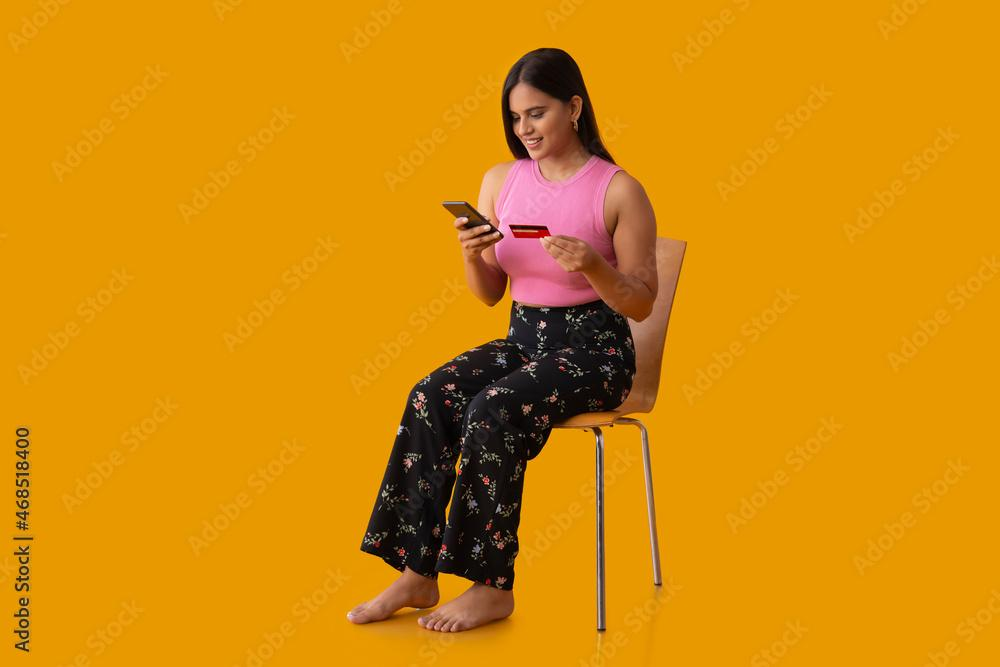Human: (361, 43, 674, 667)
